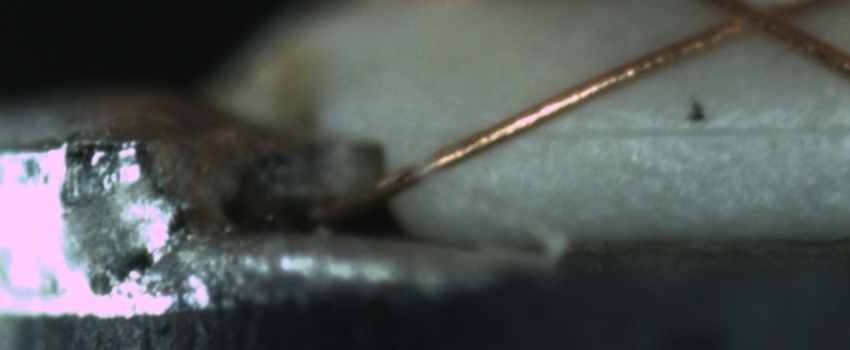CL: (703, 1, 811, 43)
DL: (539, 101, 850, 163)
